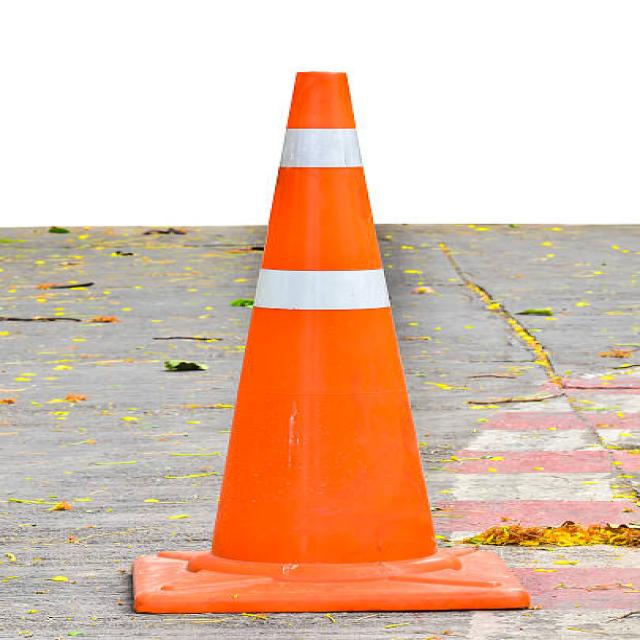Traffic Cone: (88, 39, 581, 640)
